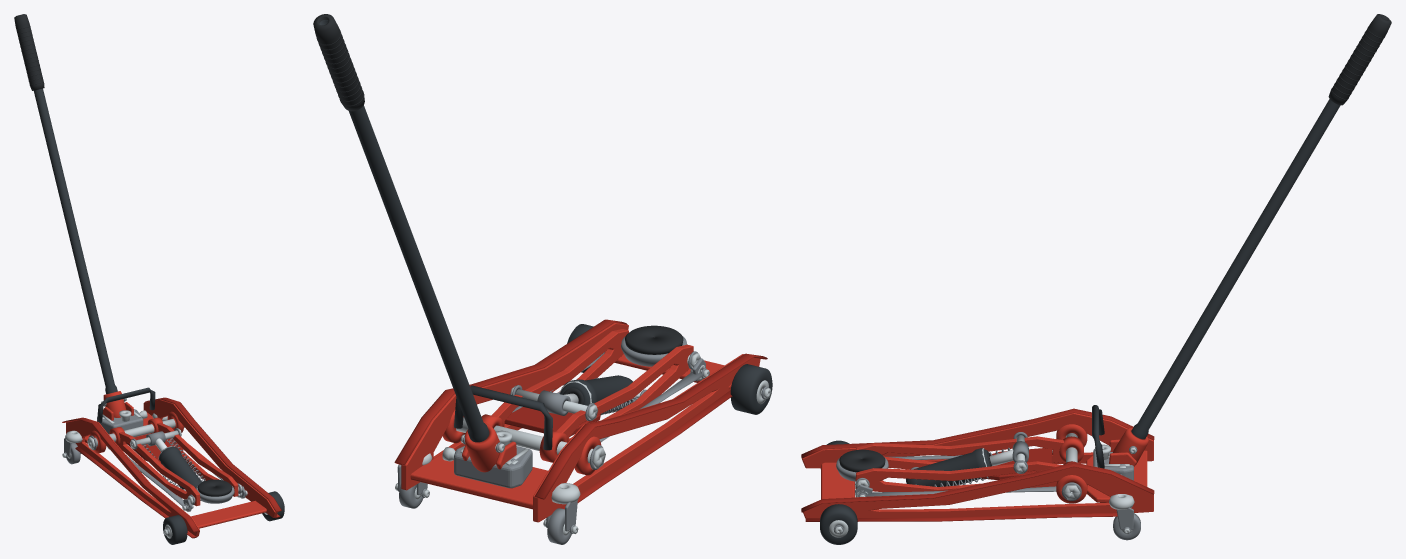
Rendered from floor_jack.glb.
The picture shows the model from 3 angles, left to right: view 1: azimuth 30°, elevation 25°; view 2: azimuth 150°, elevation 25°; view 3: azimuth 270°, elevation 25°; orthographic projection. The views are drawn at different scales.
Visible parts, largest first — view 1: long_hollow_pump_handle, stamped_U_side_-1, stamped_U_side_1, formed_lift_arm_-1, moulded_upper_hand_grip, formed_lift_arm_1, folded_upper_return_-1, low_front_crossmember, folded_upper_return_1, stepped_pressure_barrel, front_roller_-1, folded_lower_return_-1 (+5 smaller); view 2: long_hollow_pump_handle, stamped_U_side_-1, stamped_U_side_1, formed_lift_arm_-1, rear_folded_pump_bridge, formed_lift_arm_1, folded_upper_return_-1, moulded_upper_hand_grip, folded_upper_return_1, cast_pump_manifold, front_roller_-1, replaceable_rubber_pad (+8 smaller); view 3: stamped_U_side_1, long_hollow_pump_handle, stamped_U_side_-1, formed_lift_arm_1, formed_lift_arm_-1, moulded_upper_hand_grip, folded_upper_return_1, folded_upper_return_-1, stepped_pressure_barrel, folded_lower_return_1, front_roller_1, low_front_crossmember (+2 smaller).
Boxes of the visible parts, bbox=[...] form: long_hollow_pump_handle: bbox=[34, 88, 117, 394]; stamped_U_side_-1: bbox=[66, 418, 199, 536]; stamped_U_side_1: bbox=[143, 399, 277, 517]; formed_lift_arm_-1: bbox=[118, 432, 200, 506]; moulded_upper_hand_grip: bbox=[14, 14, 44, 90]; formed_lift_arm_1: bbox=[157, 422, 238, 496]; folded_upper_return_-1: bbox=[62, 417, 199, 532]; low_front_crossmember: bbox=[191, 500, 266, 528]; folded_upper_return_1: bbox=[145, 397, 281, 512]; stepped_pressure_barrel: bbox=[159, 446, 201, 489]; front_roller_-1: bbox=[163, 515, 187, 544]; folded_lower_return_-1: bbox=[75, 446, 197, 538]; long_hollow_pump_handle: bbox=[319, 20, 489, 442]; stamped_U_side_-1: bbox=[533, 354, 760, 522]; stamped_U_side_1: bbox=[401, 322, 628, 490]; formed_lift_arm_-1: bbox=[556, 344, 693, 441]; rear_folded_pump_bridge: bbox=[410, 453, 547, 509]; formed_lift_arm_1: bbox=[491, 329, 628, 430]; folded_upper_return_-1: bbox=[534, 353, 767, 499]; moulded_upper_hand_grip: bbox=[313, 14, 364, 111]; folded_upper_return_1: bbox=[394, 319, 627, 464]; cast_pump_manifold: bbox=[454, 446, 532, 488]; front_roller_-1: bbox=[730, 364, 772, 414]; replaceable_rubber_pad: bbox=[625, 325, 683, 354]; stamped_U_side_1: bbox=[803, 462, 1153, 518]; long_hollow_pump_handle: bbox=[1131, 99, 1340, 439]; stamped_U_side_-1: bbox=[802, 413, 1153, 468]; formed_lift_arm_1: bbox=[855, 461, 1062, 492]; formed_lift_arm_-1: bbox=[856, 436, 1064, 469]; moulded_upper_hand_grip: bbox=[1328, 14, 1391, 105]; folded_upper_return_1: bbox=[801, 462, 1154, 512]; folded_upper_return_-1: bbox=[801, 408, 1154, 458]; stepped_pressure_barrel: bbox=[906, 448, 990, 486]; folded_lower_return_1: bbox=[805, 513, 1117, 521]; front_roller_1: bbox=[820, 504, 857, 544]; low_front_crossmember: bbox=[821, 462, 854, 499].
Bounding box in the file's own units: 0.339 × 1.02 × 1.1.
